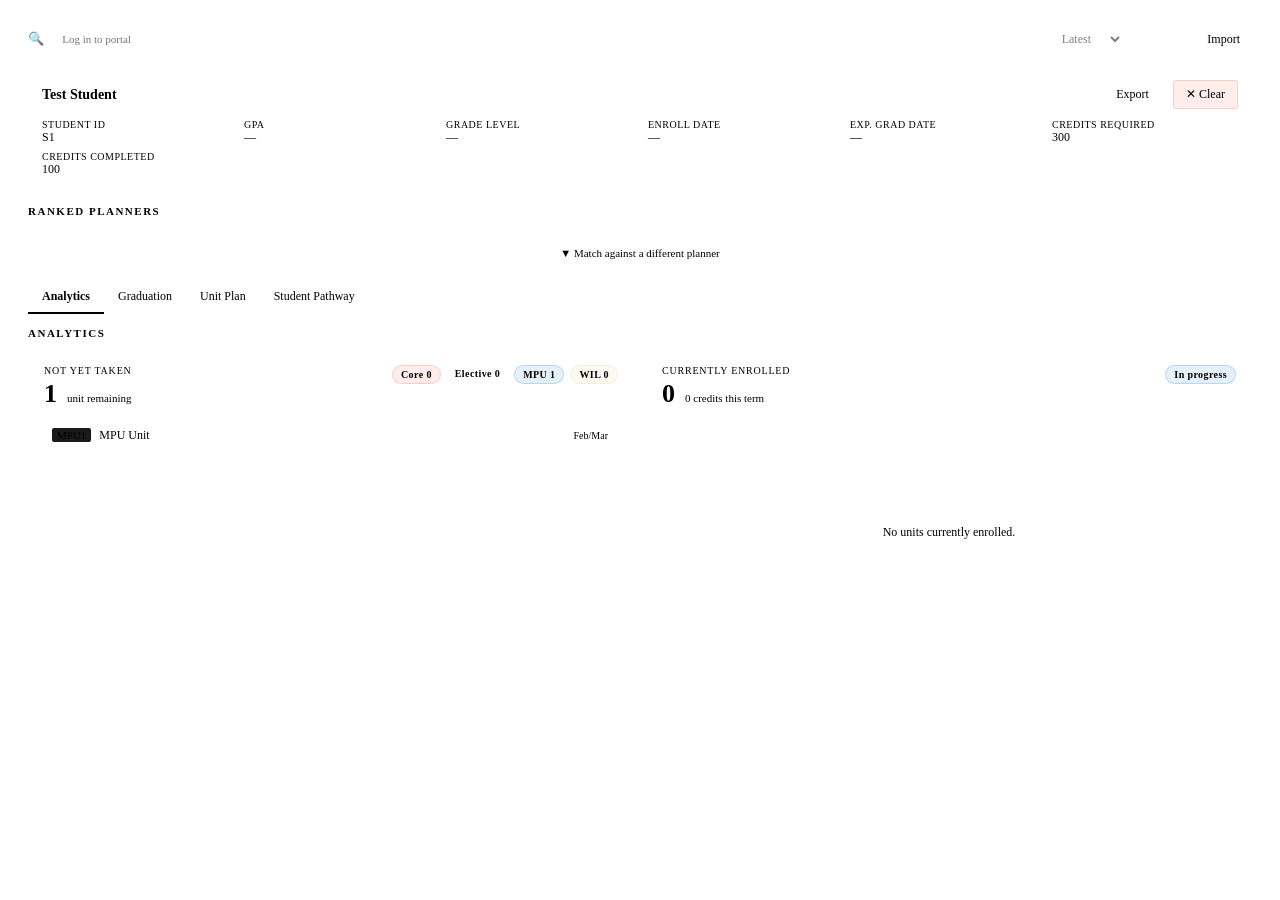
Scenario: Graduation Check: per-category credit bars › wil_cp null: only two bars appear (Core & Major, Elective), no WIL bar, no crash
Click the tab "Graduation" at (145, 298), box [104,281,186,314]
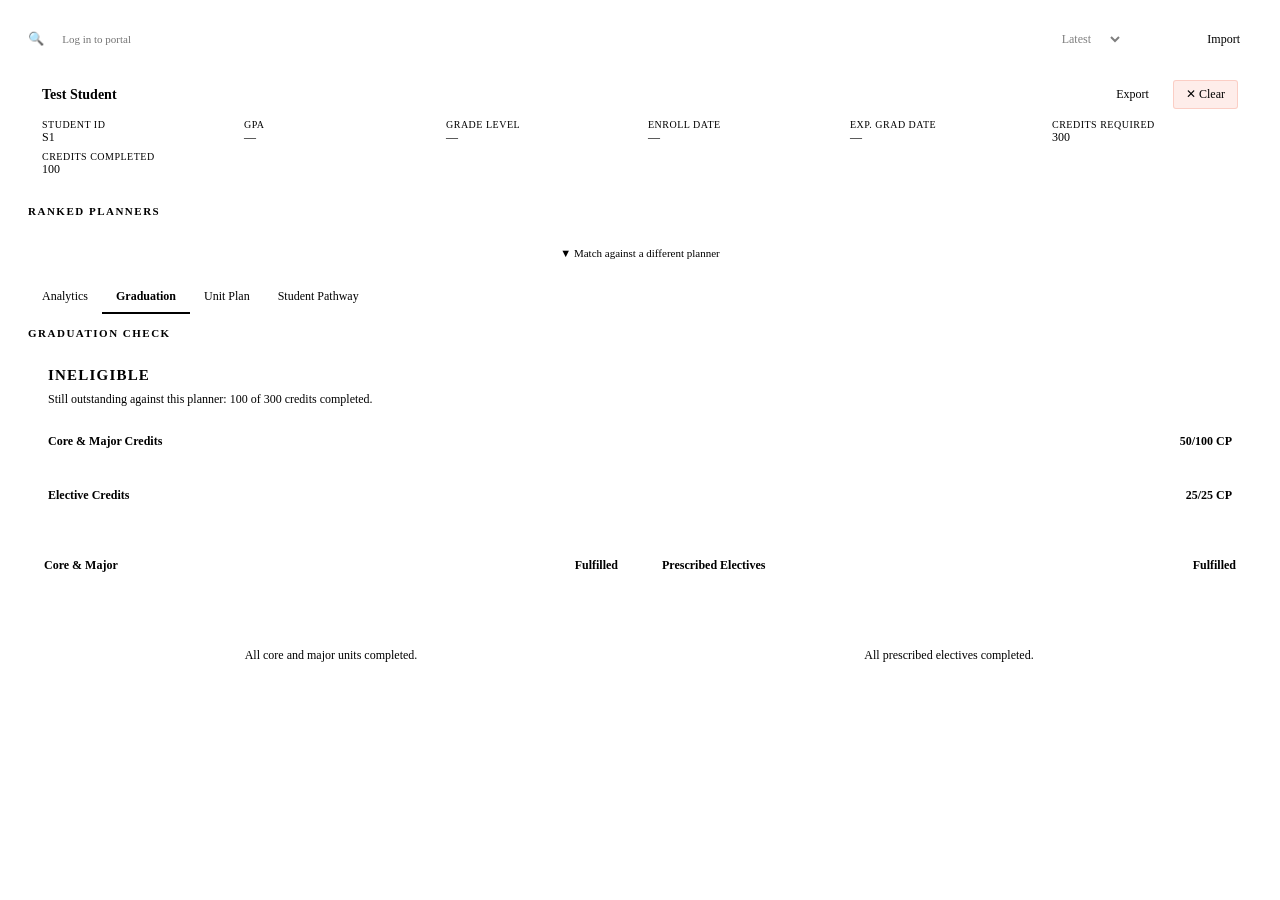
Expected: the text "Core & Major Credits" is shown, [48,434,162,449]
Expected: the text "Elective Credits" is shown, [48,488,129,503]
